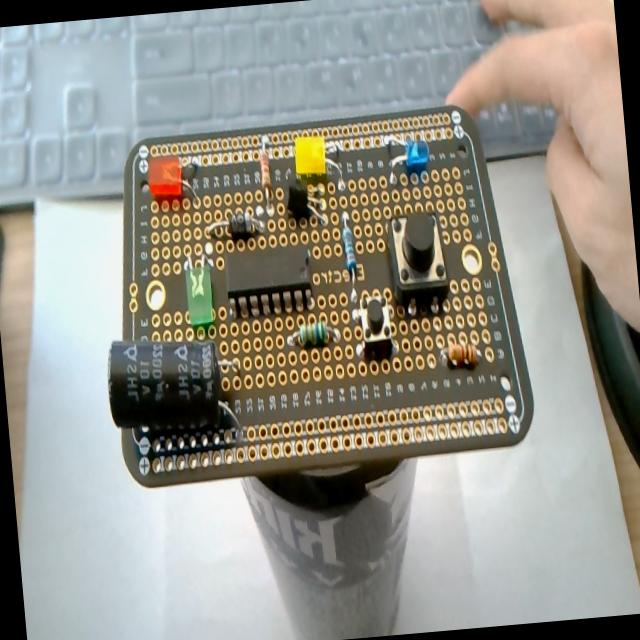Electrolytic capacitor: (92, 326, 248, 458)
IC: (227, 244, 321, 318)
diode: (198, 212, 270, 251)
led: (377, 125, 438, 197), (142, 145, 208, 211), (288, 130, 350, 184), (177, 248, 220, 325)
resistor: (284, 316, 346, 358), (432, 338, 489, 374), (338, 210, 361, 297), (255, 129, 278, 210)
switch: (386, 202, 448, 292), (351, 289, 396, 361)
transistor: (283, 180, 327, 236)
